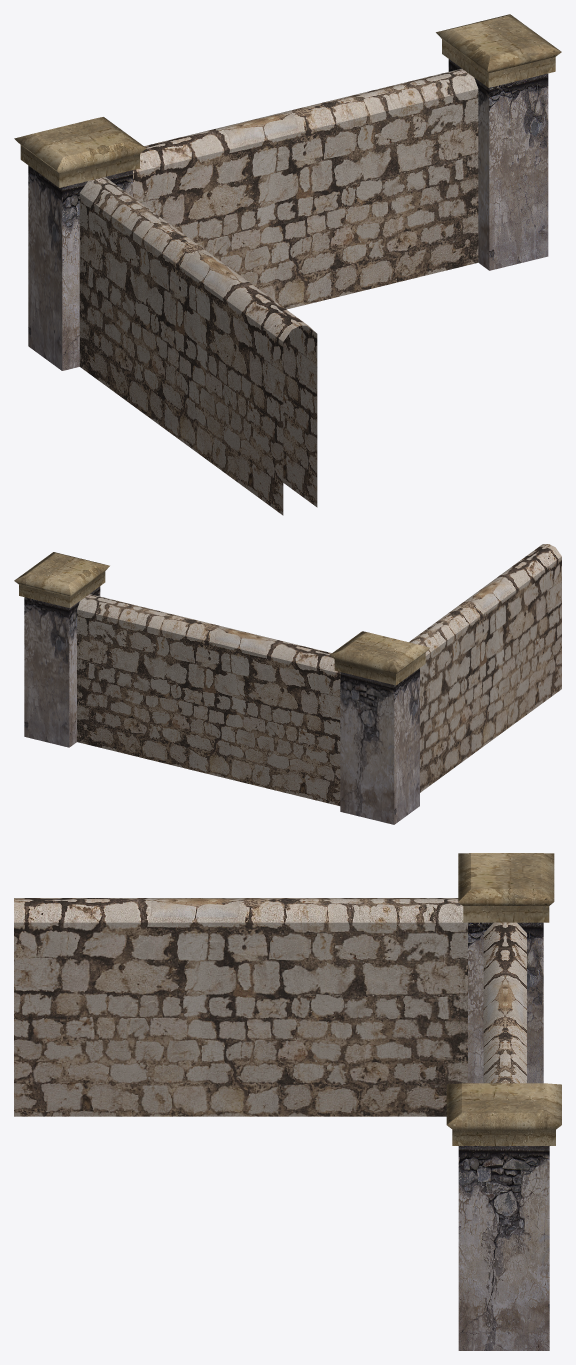
The model's file is Wall_Right_01_ALT.fbx.
The picture shows the model from 3 angles, top to bottom: view 1: azimuth 30°, elevation 25°; view 2: azimuth 150°, elevation 25°; view 3: azimuth 270°, elevation 25°; orthographic projection. The views are drawn at different scales.
Parts seen in each view (by area): view 1: wall_right_01; view 2: wall_right_01; view 3: wall_right_01.
Boxes of the visible parts, x1,y1,x2,y2 form: wall_right_01: (14, 14, 561, 515); wall_right_01: (14, 544, 561, 824); wall_right_01: (14, 853, 561, 1350).
Bounding box in the file's own units: 8.5 × 3.45 × 7.24.
